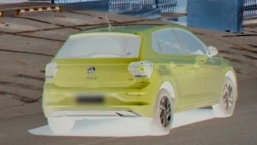car: (38, 11, 244, 138)
